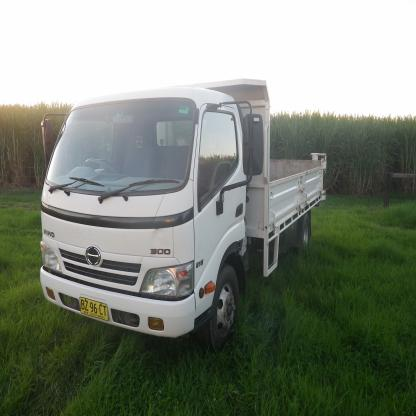dump_truck: (34, 70, 329, 360)
